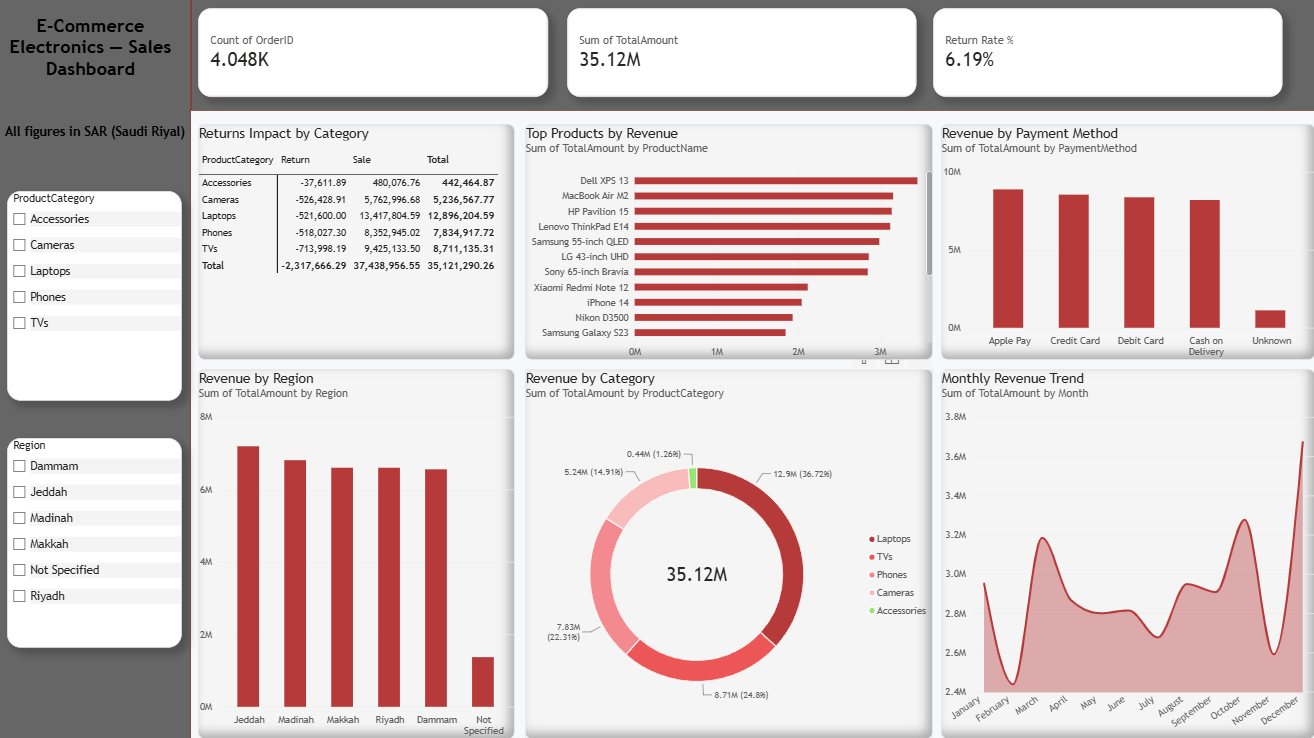

The page's visual inventory and layout, read from the dashboard file:
{"tool":"powerbi","page":{"name":"Page 1","canvas":[1920,1080],"ordinal":0},"visuals":[{"type":"shape","box":[280.1,0,1639.9,163.4],"z":0},{"type":"shape","box":[0,0,280.1,1079.6],"z":1000},{"type":"cardVisual","fields":{"Data":["CountNonNull(ecommerce_sales_clean.OrderID)"]},"box":[290.3,13.1,510.6,129.8],"z":2000},{"type":"cardVisual","fields":{"Data":["Sum(ecommerce_sales_clean.TotalAmount)"]},"box":[828.7,13.1,510,129.8],"z":3000},{"type":"cardVisual","fields":{"Data":["ecommerce_sales_clean.Return Rate %"]},"box":[1362.7,13.1,510,129.8],"z":4000},{"type":"lineChart","title":"Monthly Revenue Trend","fields":{"Category":["ecommerce_sales_clean.OrderDate.Variation.Date Hierarchy.Month"],"Y":["Sum(ecommerce_sales_clean.TotalAmount)"]},"box":[1374.3,539.8,545.7,539.8],"z":5000},{"type":"donutChart","title":"Revenue by Category","fields":{"Category":["ecommerce_sales_clean.ProductCategory"],"Y":["Sum(ecommerce_sales_clean.TotalAmount)"]},"box":[767.4,539.8,595.3,539.8],"z":6000},{"type":"clusteredBarChart","title":"Top Products by Revenue","fields":{"Category":["ecommerce_sales_clean.ProductName"],"Y":["Sum(ecommerce_sales_clean.TotalAmount)"]},"box":[767.4,182.4,595.3,344.3],"z":7000},{"type":"clusteredColumnChart","title":"Revenue by Region","fields":{"Category":["ecommerce_sales_clean.Region"],"Y":["Sum(ecommerce_sales_clean.TotalAmount)"]},"box":[290.3,539.8,462.5,539.8],"z":8000},{"type":"clusteredColumnChart","title":"Revenue by Payment Method","fields":{"Category":["ecommerce_sales_clean.PaymentMethod"],"Y":["Sum(ecommerce_sales_clean.TotalAmount)"]},"box":[1374.3,182.4,545.7,344.3],"z":9000},{"type":"pivotTable","title":"Returns Impact by Category","fields":{"Columns":["ecommerce_sales_clean.OrderType"],"Rows":["ecommerce_sales_clean.ProductCategory"],"Values":["Sum(ecommerce_sales_clean.TotalAmount)"]},"box":[290.3,182.4,462.5,344.3],"z":10000},{"type":"textbox","box":[0,23.3,267,163.4],"z":11000},{"type":"slicer","fields":{"Values":["ecommerce_sales_clean.ProductCategory"]},"box":[11.7,280.1,255.3,306],"z":12000},{"type":"slicer","fields":{"Values":["ecommerce_sales_clean.Region"]},"box":[11.7,640.5,255.3,306.4],"z":13000},{"type":"textbox","box":[0,182.4,280.1,71.5],"z":14000}]}

Visuals, with their boxes in screenshot pixels (x1, y1, x2, y2), scaled from the page's 1920x1080 canvas onto the 1314x738 screenshot:
shape: 192, 0, 1313, 112
shape: 0, 0, 192, 737
cardVisual - CountNonNull(ecommerce_sales_clean.OrderID): 199, 9, 548, 98
cardVisual - Sum(ecommerce_sales_clean.TotalAmount): 567, 9, 916, 98
cardVisual - ecommerce_sales_clean.Return Rate %: 933, 9, 1282, 98
"Monthly Revenue Trend" lineChart: 941, 369, 1313, 737
"Revenue by Category" donutChart: 525, 369, 933, 737
"Top Products by Revenue" clusteredBarChart: 525, 125, 933, 360
"Revenue by Region" clusteredColumnChart: 199, 369, 515, 737
"Revenue by Payment Method" clusteredColumnChart: 941, 125, 1313, 360
"Returns Impact by Category" pivotTable: 199, 125, 515, 360
textbox: 0, 16, 183, 128
slicer - ecommerce_sales_clean.ProductCategory: 8, 191, 183, 401
slicer - ecommerce_sales_clean.Region: 8, 438, 183, 647
textbox: 0, 125, 192, 173
